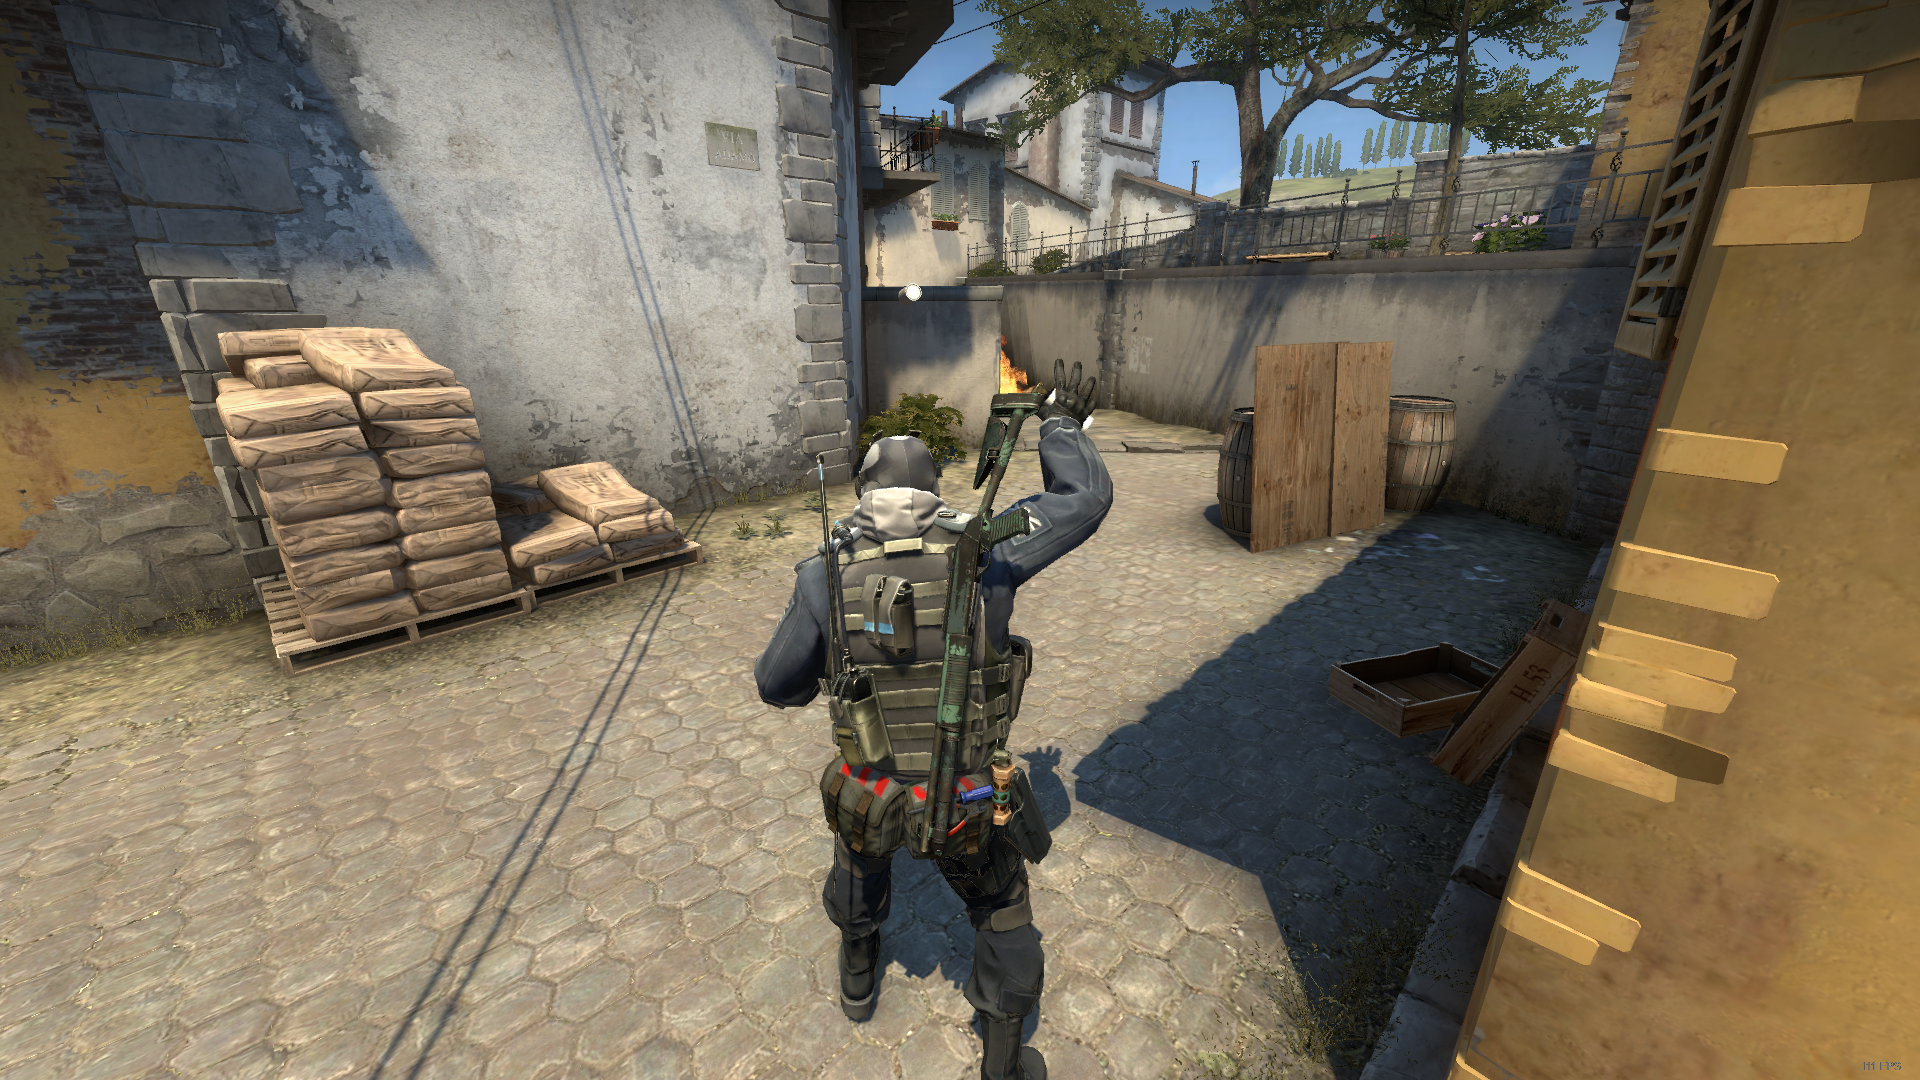ct: (754, 357, 1113, 1080)
